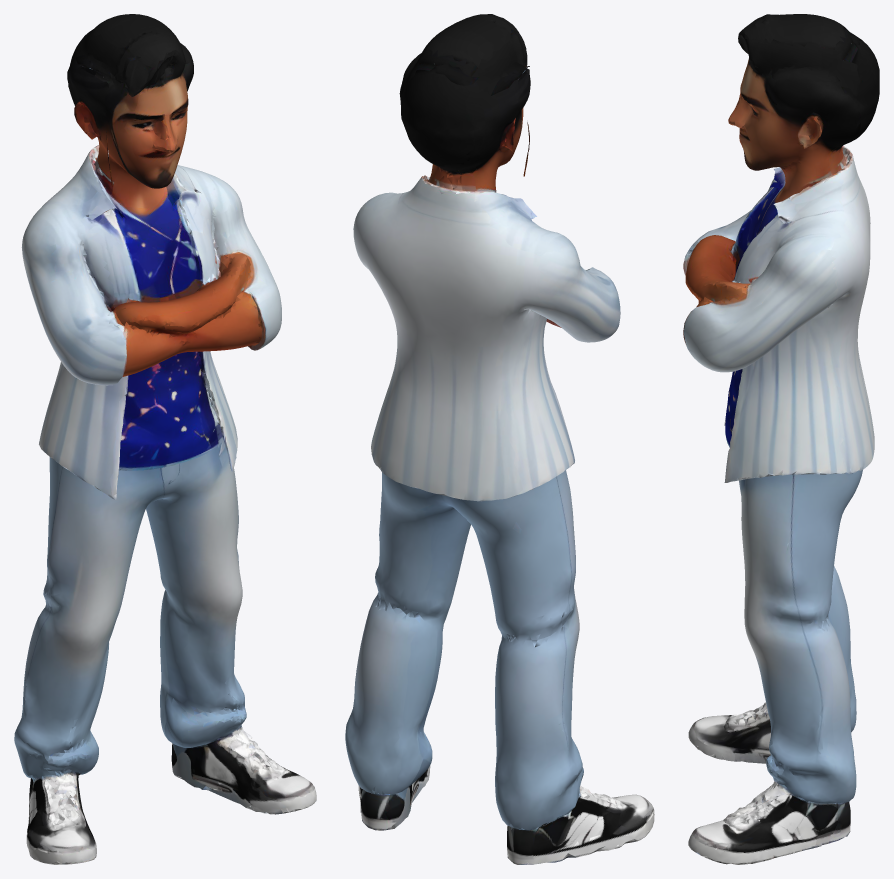
The model's file is pose_tools.glb.
The picture shows the model from 3 angles, left to right: view 1: azimuth 30°, elevation 25°; view 2: azimuth 150°, elevation 25°; view 3: azimuth 270°, elevation 25°; orthographic projection. The views are drawn at different scales.
Parts seen in each view (by area): view 1: pose_tools; view 2: pose_tools; view 3: pose_tools.
Boxes of the visible parts, bbox=[...] form: pose_tools: bbox=[14, 14, 316, 864]; pose_tools: bbox=[345, 14, 654, 864]; pose_tools: bbox=[683, 14, 879, 864].
Size of the model in its own units: 0.6948 by 1.9 by 0.4341.
1 material, 1 textured.
